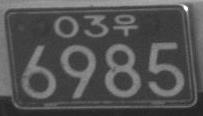0: (53, 14, 80, 39)
3: (82, 13, 109, 38)
5: (147, 41, 185, 98)
6: (19, 44, 57, 100)
8: (103, 41, 142, 99)
9: (59, 43, 97, 99)
우: (112, 13, 138, 36)
